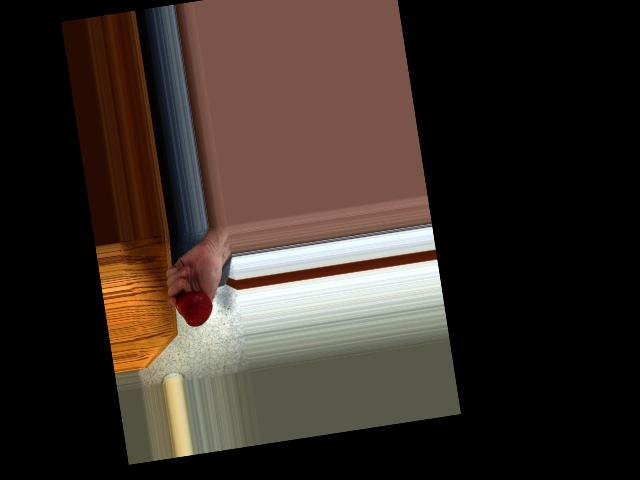apple: (173, 286, 215, 330)
